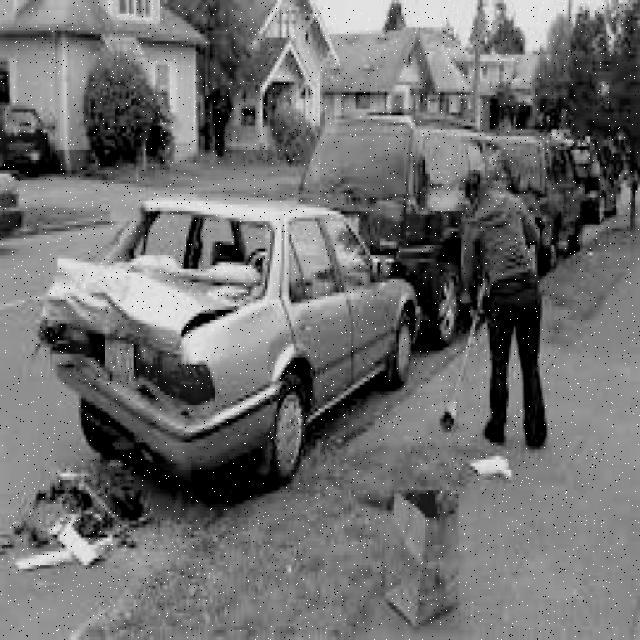car damage: (41, 206, 273, 428)
